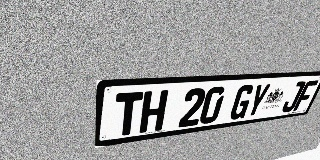0: (198, 86, 227, 125)
2: (178, 87, 207, 128)
F: (293, 80, 319, 111)
G: (228, 84, 256, 120)
H: (139, 90, 169, 133)
J: (280, 81, 307, 113)
T: (114, 92, 143, 137)
Y: (244, 83, 272, 118)
